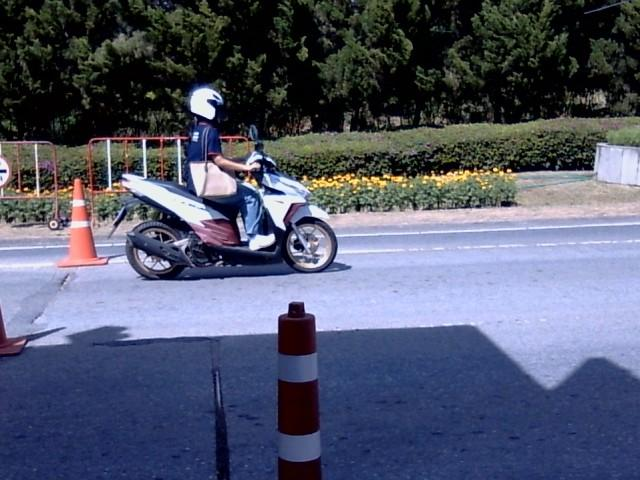helmet: (187, 85, 227, 125)
motor: (109, 125, 337, 277)
person: (184, 87, 274, 248)
